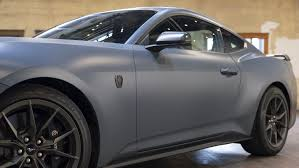car: (1, 7, 297, 168)
